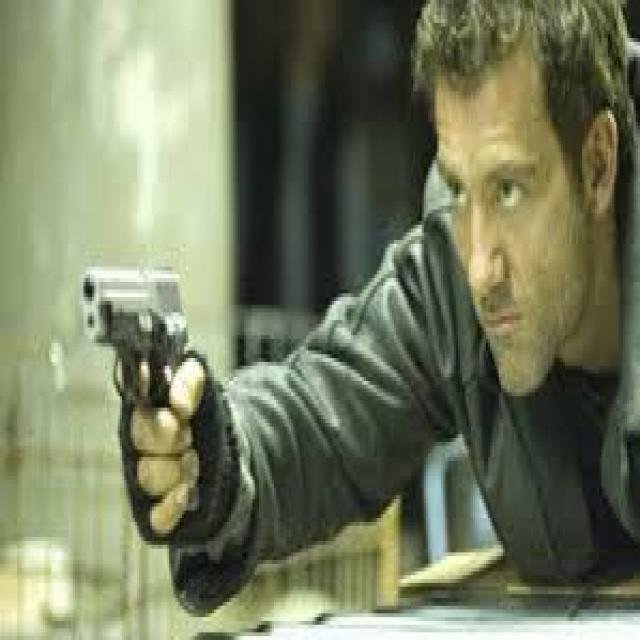weapons: (36, 192, 237, 522)
